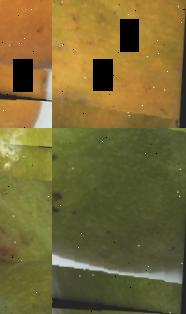PartiallyRipe: (52, 0, 186, 128)
Ripe: (0, 0, 52, 103)
Unripe: (52, 128, 186, 314), (0, 136, 52, 314)
